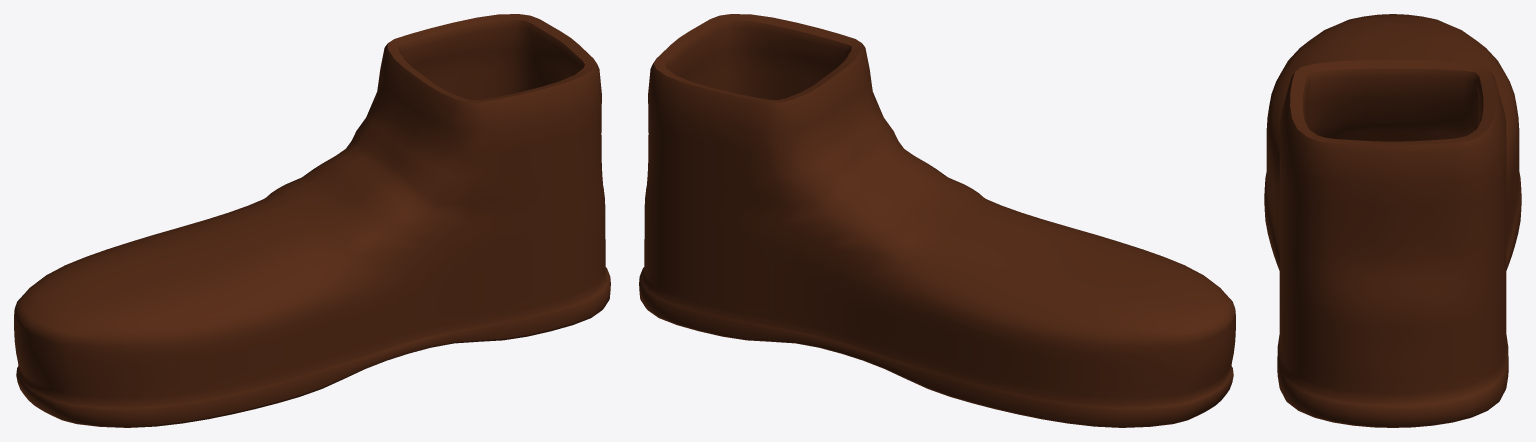
The model's file is Boot.FBX.
The picture shows the model from 3 angles, left to right: view 1: azimuth 30°, elevation 25°; view 2: azimuth 150°, elevation 25°; view 3: azimuth 270°, elevation 25°; orthographic projection. The views are drawn at different scales.
Visible parts, largest first — view 1: Boot; view 2: Boot; view 3: Boot.
Boxes of the visible parts, x1,y1,x2,y2 form: Boot: (14,14,610,427); Boot: (639,14,1235,427); Boot: (1264,14,1521,427).
Bounding box in the file's own units: 31.07 × 12.46 × 10.72.
